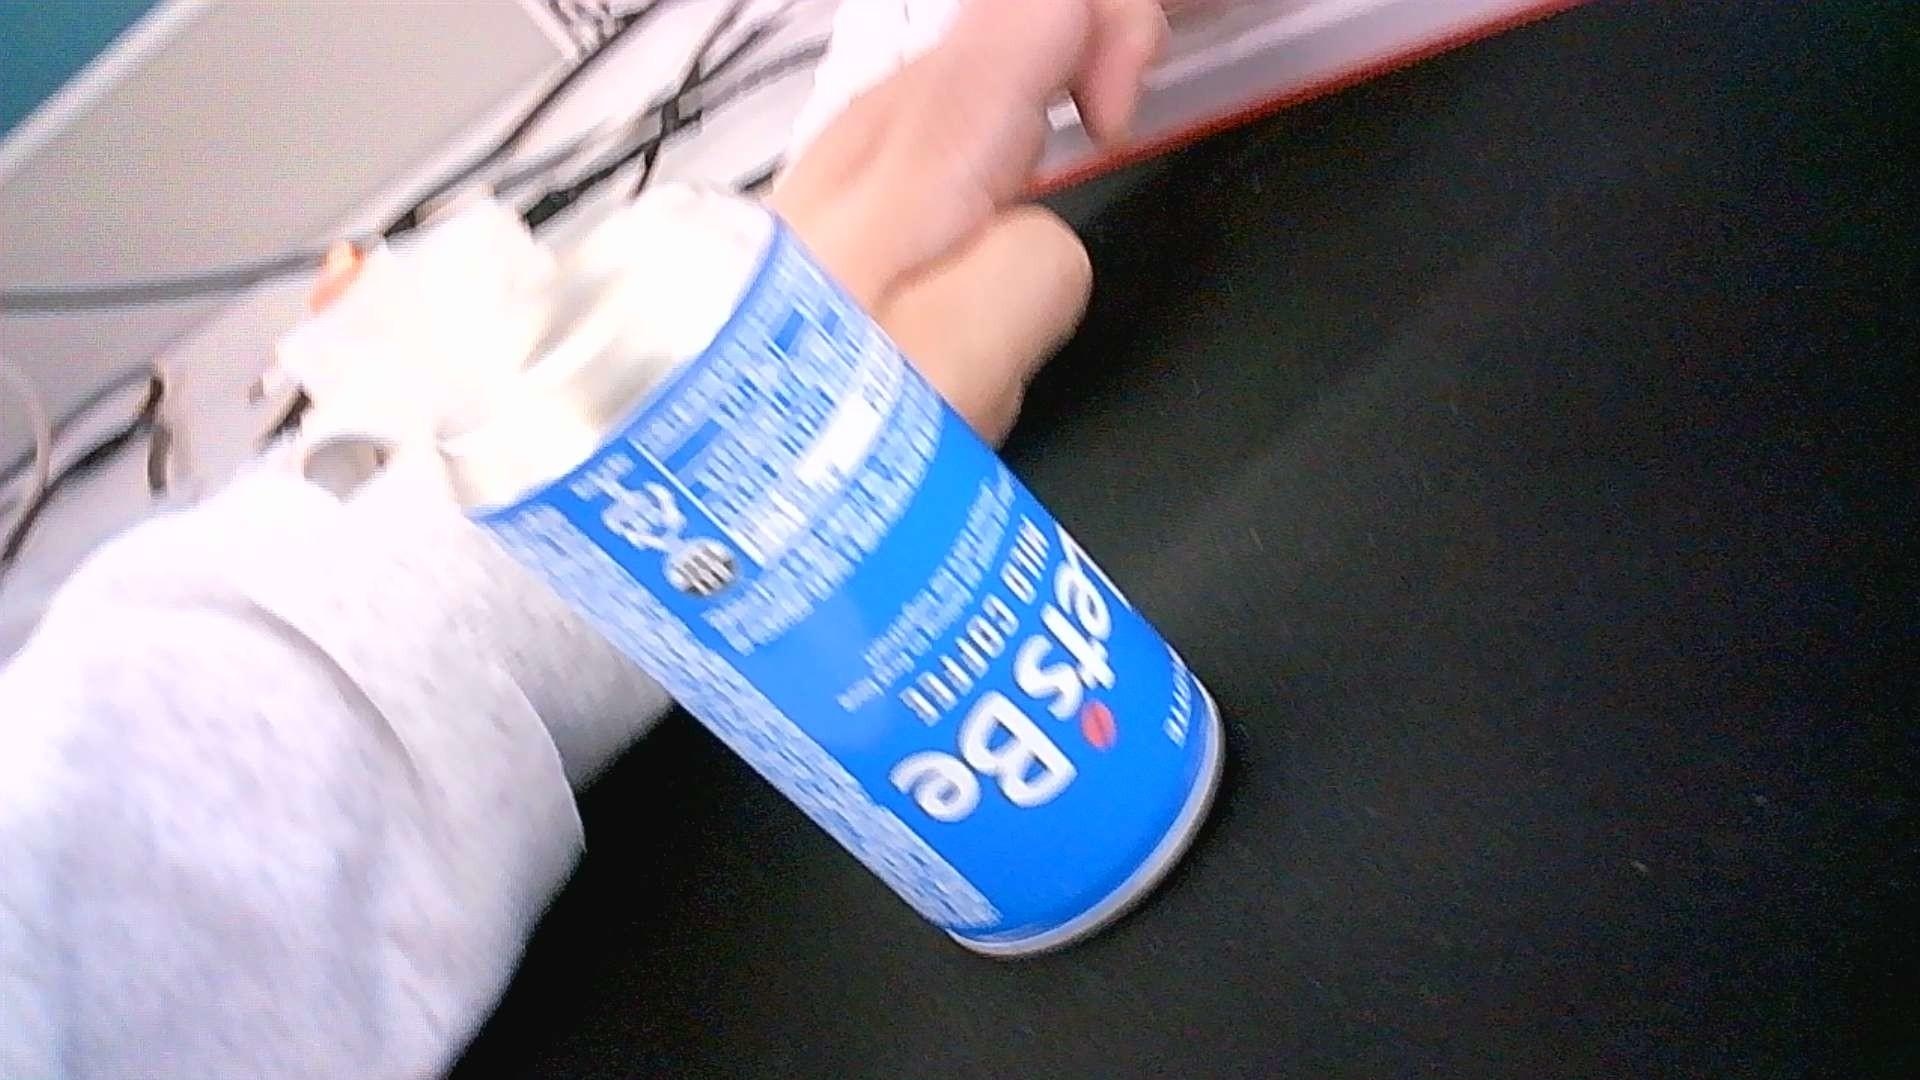letsbe: (433, 177, 1226, 963)
